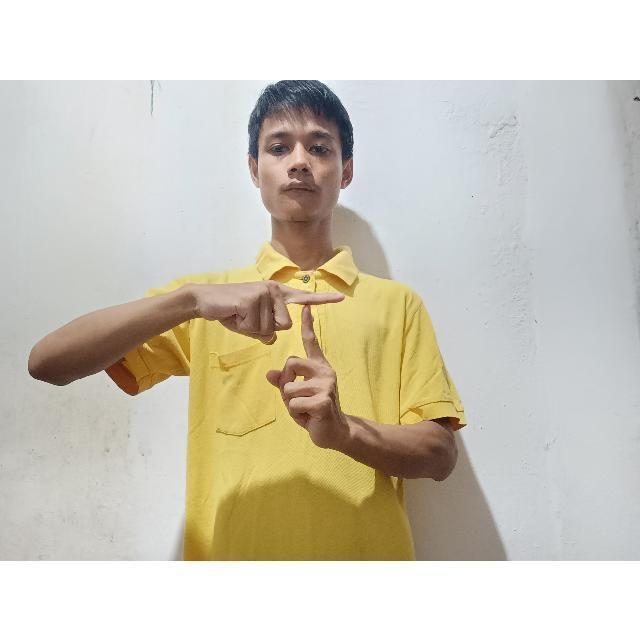T: (237, 274, 349, 438)
